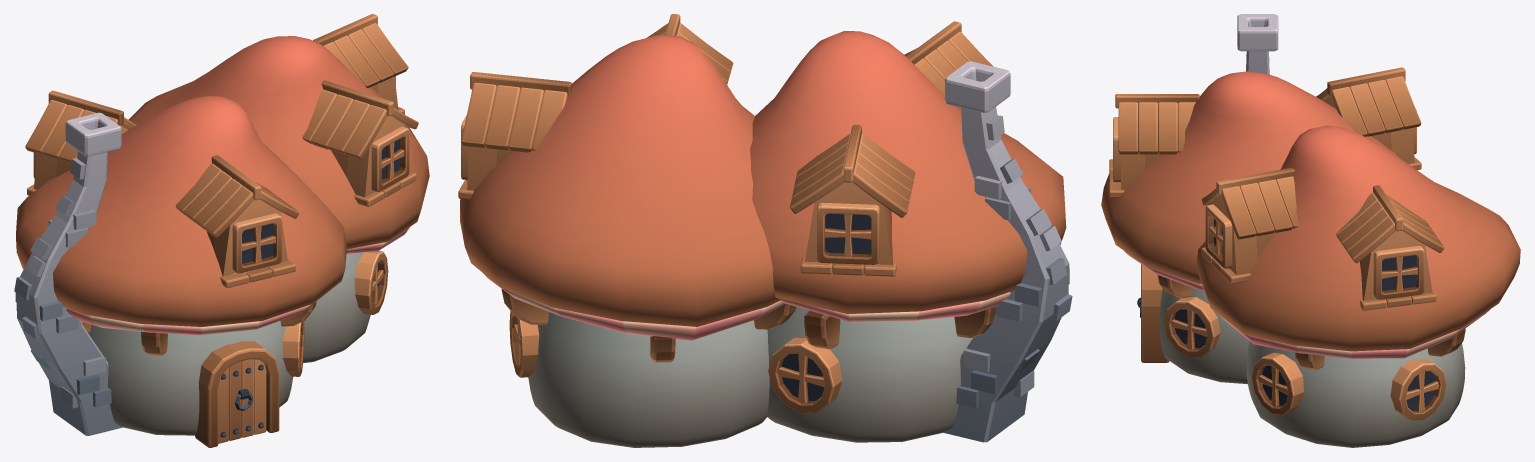
Rendered from mt_house09.fbx.
3 renders of one model, left to right at view 1: azimuth 30°, elevation 25°; view 2: azimuth 150°, elevation 25°; view 3: azimuth 270°, elevation 25°, orthographic. The views are drawn at different scales.
Visible parts, largest first — view 1: h9; view 2: h9; view 3: h9.
Boxes of the visible parts, x1,y1,x2,y2 form: h9: (14,14,429,447); h9: (458,14,1072,447); h9: (1101,14,1520,447).
Size of the model in its own units: 1033 by 659 by 887.
